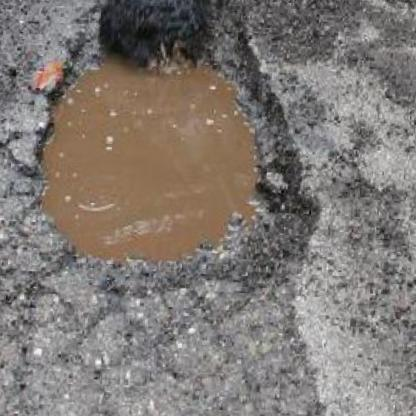pothole: (20, 0, 333, 322)
